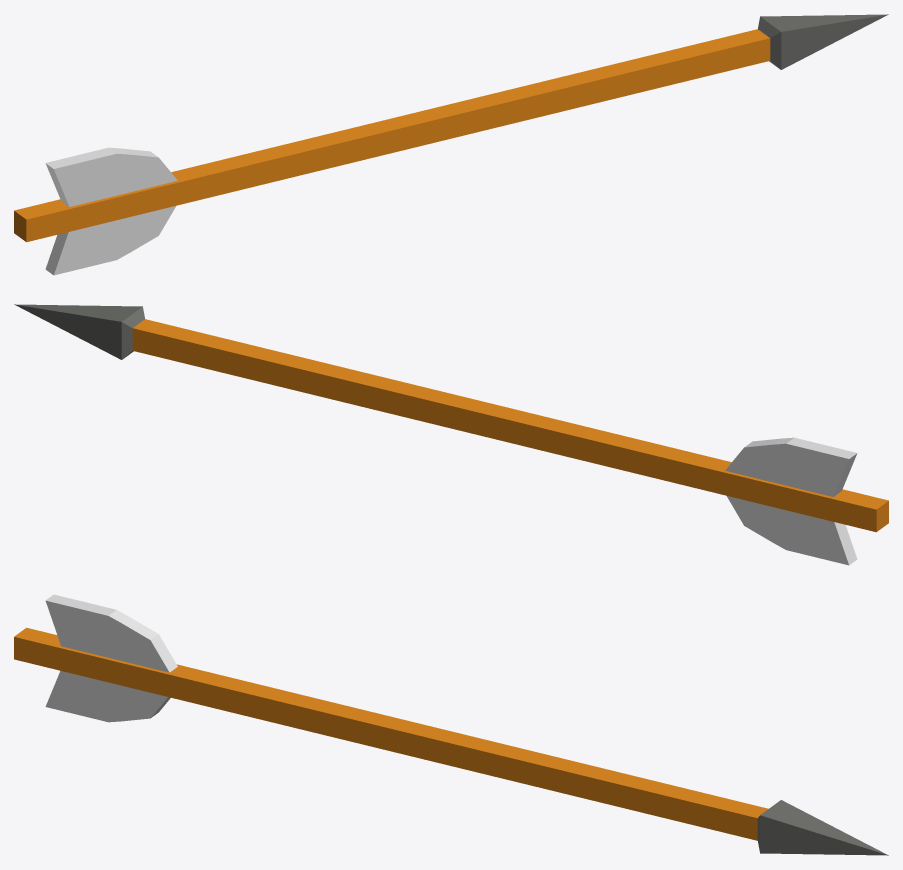
3 views of the same model, one above another, from view 1: azimuth 30°, elevation 25°; view 2: azimuth 150°, elevation 25°; view 3: azimuth 330°, elevation 25° (orthographic).
Visible parts, largest first — view 1: 箭; view 2: 箭; view 3: 箭.
Boxes of the visible parts, bbox=[...] form: 箭: bbox=[14, 14, 888, 275]; 箭: bbox=[14, 304, 888, 565]; 箭: bbox=[14, 594, 888, 855].
Bounding box in the file's own units: 402 × 47.02 × 16.9.
